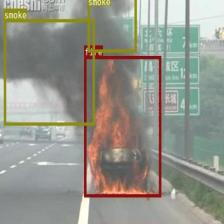fire: (83, 56, 160, 196)
smoke: (3, 19, 94, 125), (87, 0, 136, 51)
